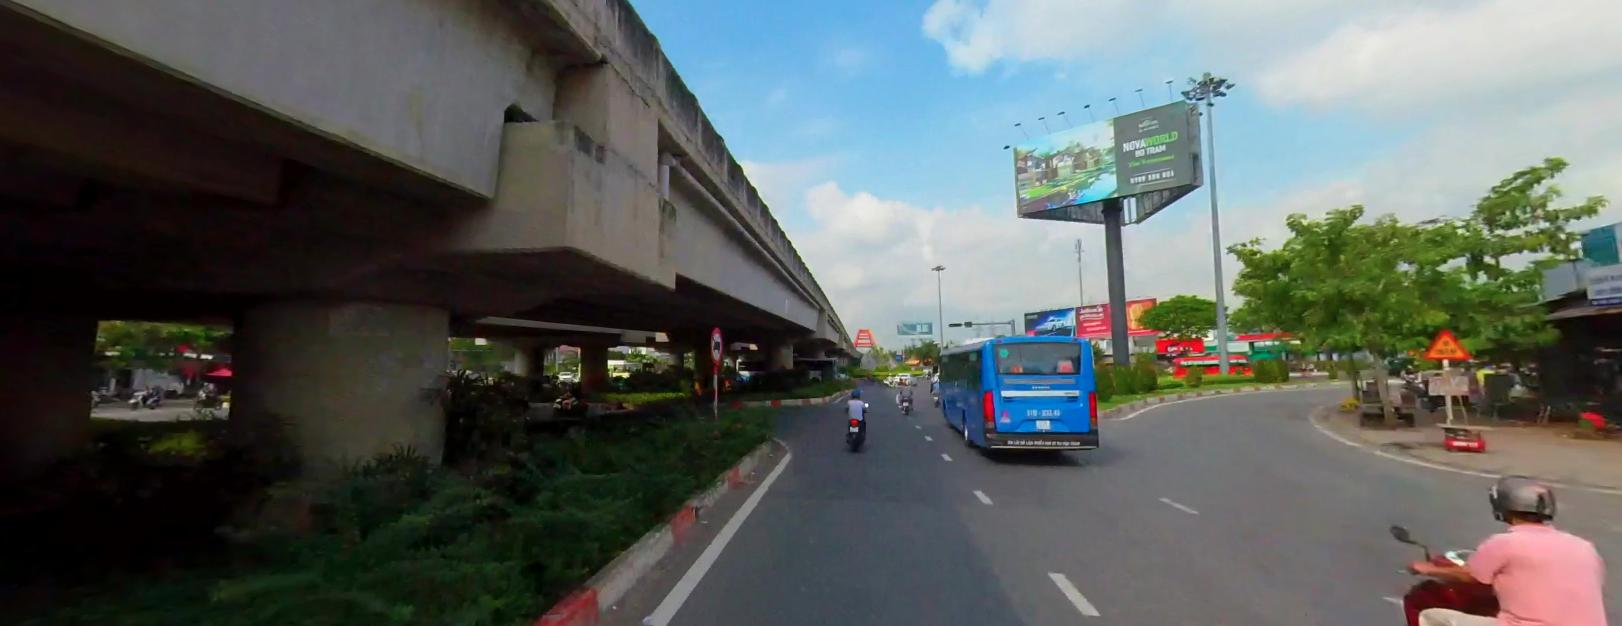Cam con lai: (710, 325, 725, 362), (710, 325, 721, 363)
Nguy hiem: (1423, 326, 1471, 359), (1423, 328, 1472, 358)
